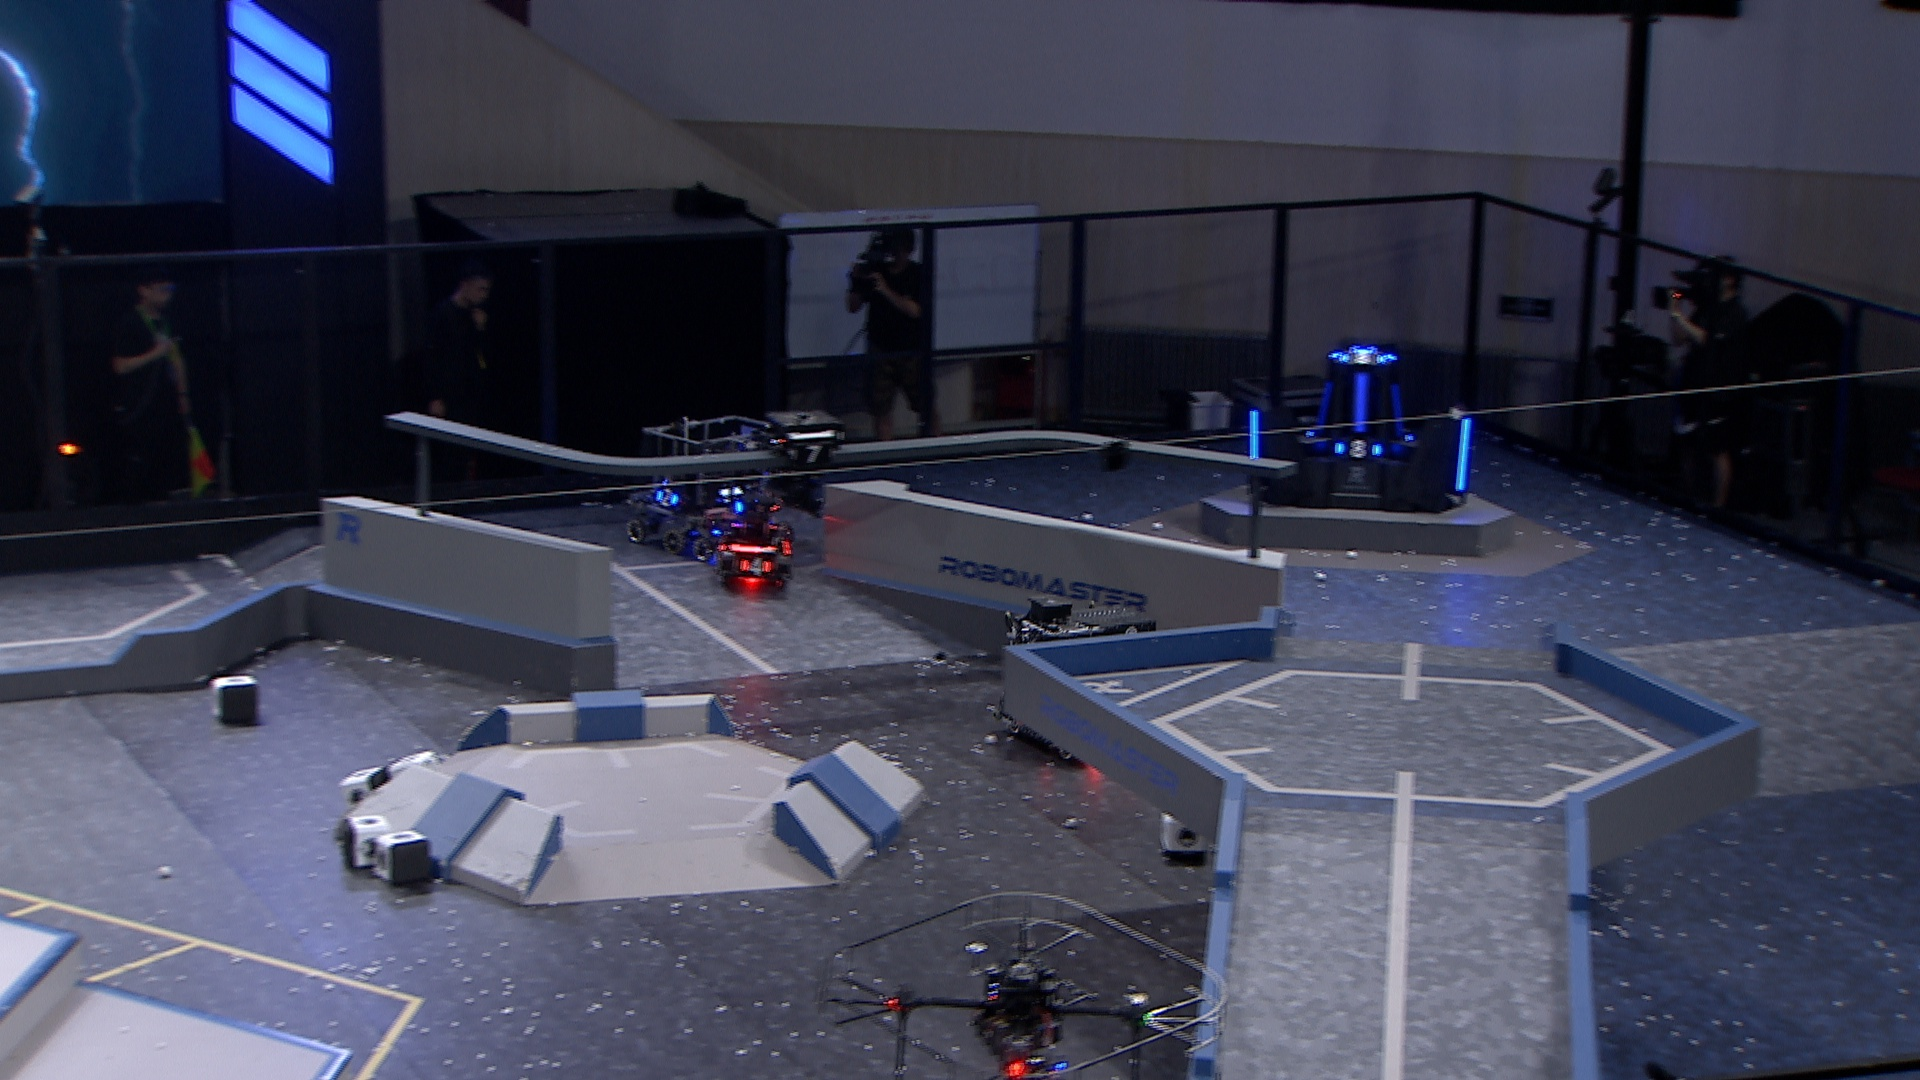armor: (1452, 415, 1474, 495), (1309, 380, 1335, 440), (1352, 372, 1373, 438), (1332, 438, 1385, 462), (789, 443, 837, 467), (1338, 351, 1393, 371), (1390, 382, 1408, 438), (1245, 407, 1263, 462), (737, 553, 775, 578), (654, 485, 680, 508)
base: (1242, 345, 1477, 517)
car: (986, 607, 1158, 765), (621, 411, 782, 564), (709, 493, 795, 593)
watcher: (764, 410, 843, 517)
